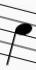note: (5, 2, 33, 67)
